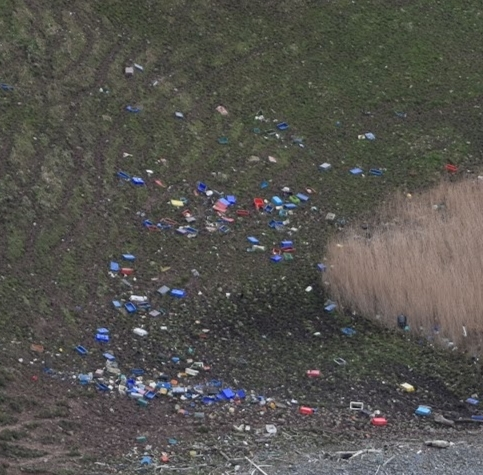scattered_barrel: (109, 56, 397, 268), (63, 245, 194, 361), (294, 353, 437, 434), (295, 257, 419, 340), (396, 369, 483, 432), (125, 417, 214, 469)
together_barrel: (78, 354, 292, 411)
white_in_green: (427, 141, 479, 193), (250, 408, 296, 448)
